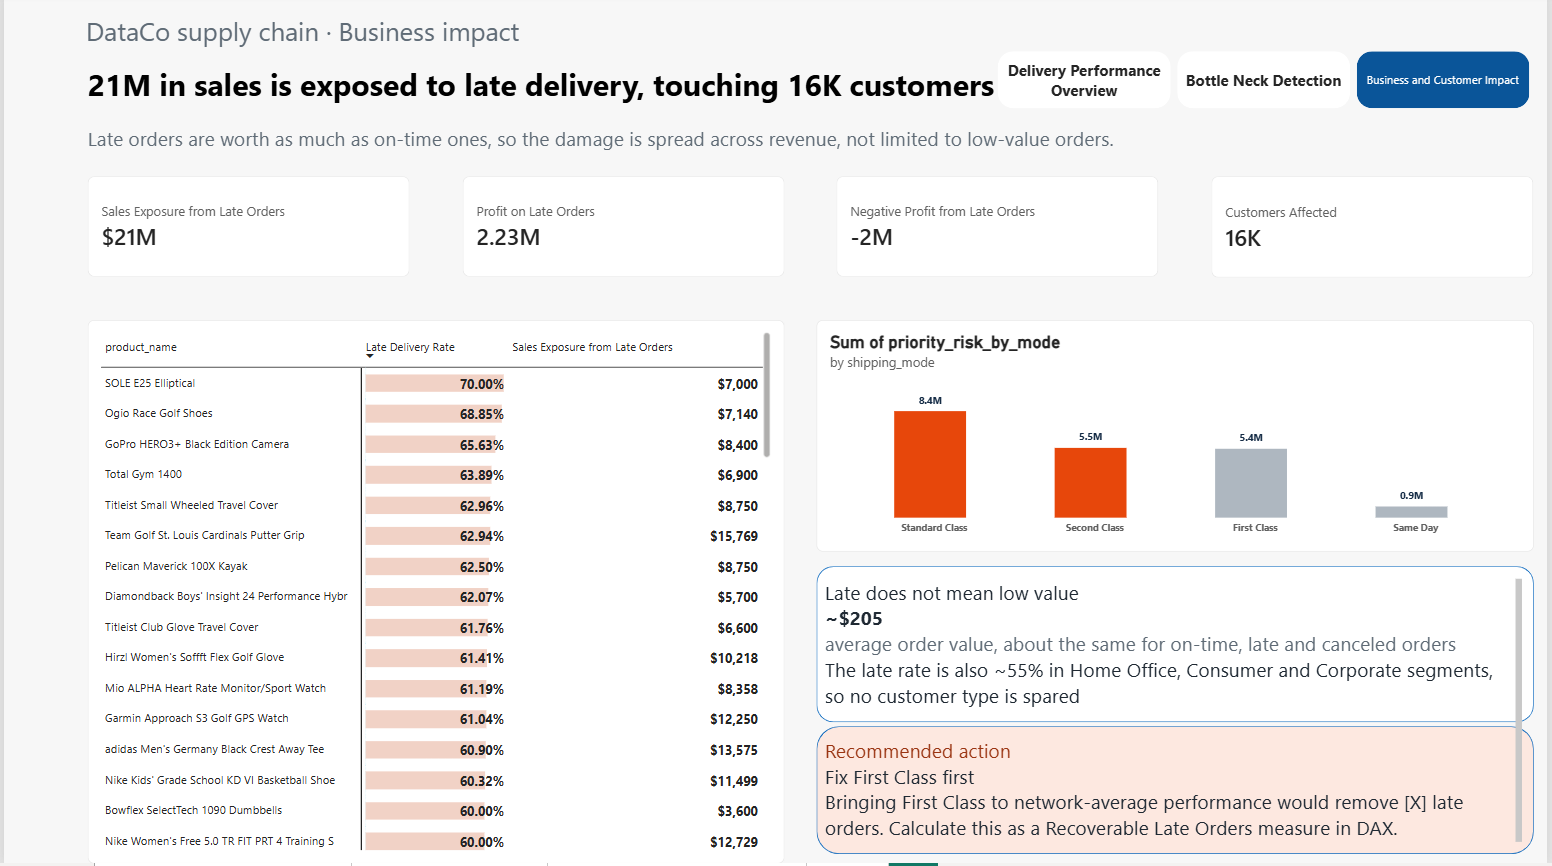

Layout of this report page (visuals, bound fields, positions):
{"tool":"powerbi","page":{"name":"Business and Customer Impact","canvas":[1920,1080],"ordinal":2},"visuals":[{"type":"cardVisual","fields":{"Data":["df.Sales Exposure from Late Orders"]},"box":[104,226,400,125],"z":0},{"type":"cardVisual","fields":{"Data":["df.Profit on Late Orders"]},"box":[570,226,400,125],"z":1000},{"type":"cardVisual","fields":{"Data":["df.Negative-Profit Late Orders"]},"box":[1036,226,400,125],"z":2000},{"type":"cardVisual","fields":{"Data":["df.Customers Affected"]},"box":[1502,226,400,126],"z":3000},{"type":"clusteredColumnChart","fields":{"Category":["df.shipping_mode"],"Y":["Sum(df.priority_risk_by_mode)"]},"box":[1010,404,892,288],"z":4000},{"type":"pivotTable","fields":{"Rows":["df.product_name"],"Values":["df.Late Delivery Rate","df.Sales Exposure from Late Orders"]},"box":[104,404,866,676],"z":5000},{"type":"textbox","box":[94,24,578,46],"z":6000},{"type":"textbox","box":[104,86,1206,150],"z":7000},{"type":"textbox","box":[104,162,1286,46],"z":8000},{"type":"shape","box":[1010,710,892,194],"z":10000},{"type":"shape","box":[1010,910,892,159],"z":11000},{"type":"textbox","box":[1022,726,866,344],"z":11500},{"type":"pageNavigator","box":[1236.5,69.3,663.8,71.1],"z":11501}]}

Visuals, with their boxes in screenshot pixels (x1, y1, x2, y2), scaled from the page's 1920x1080 canvas onto the 1552x866 screenshot:
cardVisual - df.Sales Exposure from Late Orders: <region>84, 181, 407, 281</region>
cardVisual - df.Profit on Late Orders: <region>461, 181, 784, 281</region>
cardVisual - df.Negative-Profit Late Orders: <region>837, 181, 1161, 281</region>
cardVisual - df.Customers Affected: <region>1214, 181, 1537, 282</region>
clusteredColumnChart - df.shipping_mode x Sum(df.priority_risk_by_mode): <region>816, 324, 1537, 555</region>
pivotTable - df.product_name x df.Late Delivery Rate: <region>84, 324, 784, 865</region>
textbox: <region>76, 19, 543, 56</region>
textbox: <region>84, 69, 1059, 189</region>
textbox: <region>84, 130, 1124, 167</region>
shape: <region>816, 569, 1537, 725</region>
shape: <region>816, 730, 1537, 857</region>
textbox: <region>826, 582, 1526, 858</region>
pageNavigator: <region>1000, 56, 1536, 113</region>
